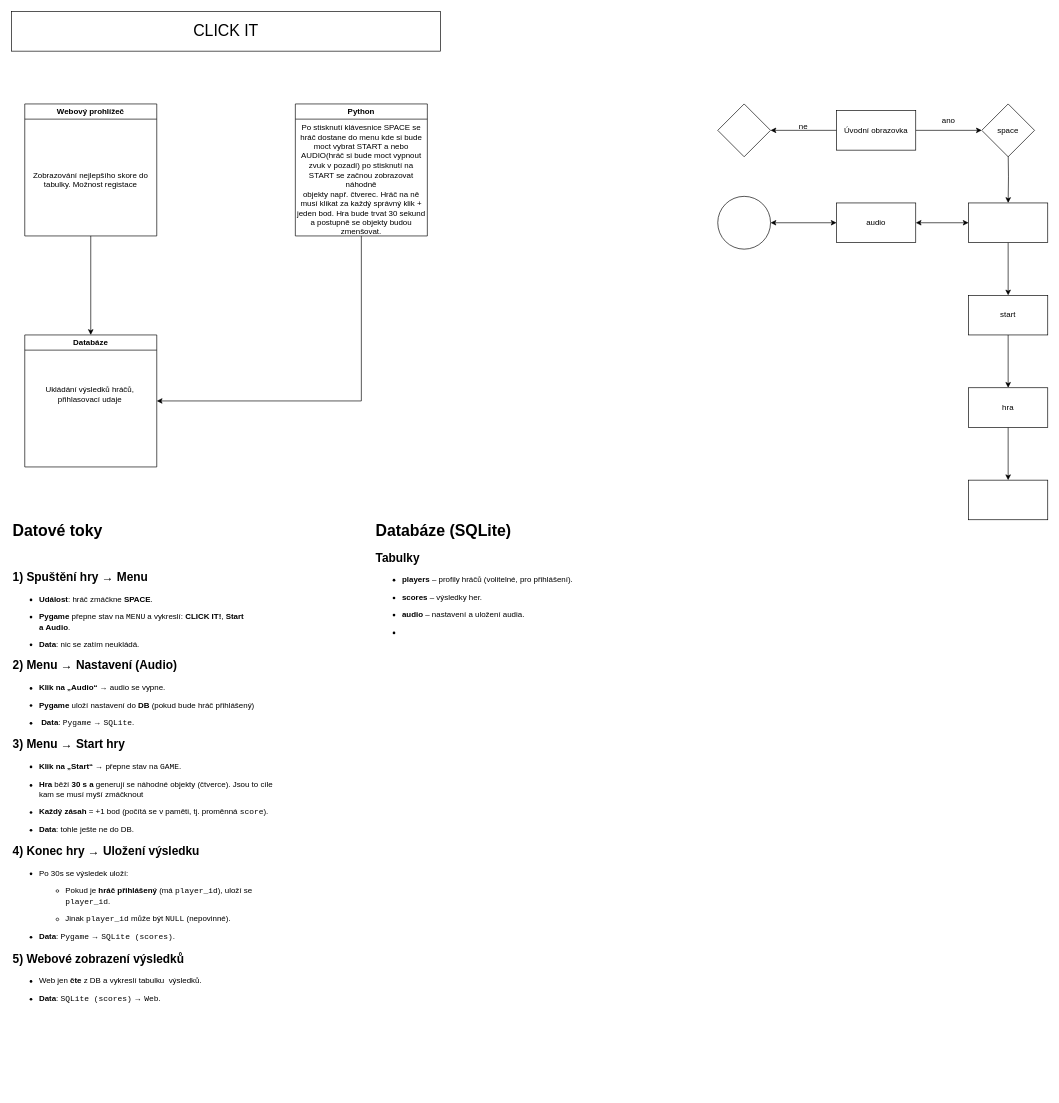
This 1059x1103 diagram has some shape labels left out. Here are the shapes that lost their labels. From the top down, the centre of each, then its label:
[744,130]: space(nic se nestane)
[744,222]: lze vypnout zvuk
[1008,222]: menu
[1008,499]: konec
